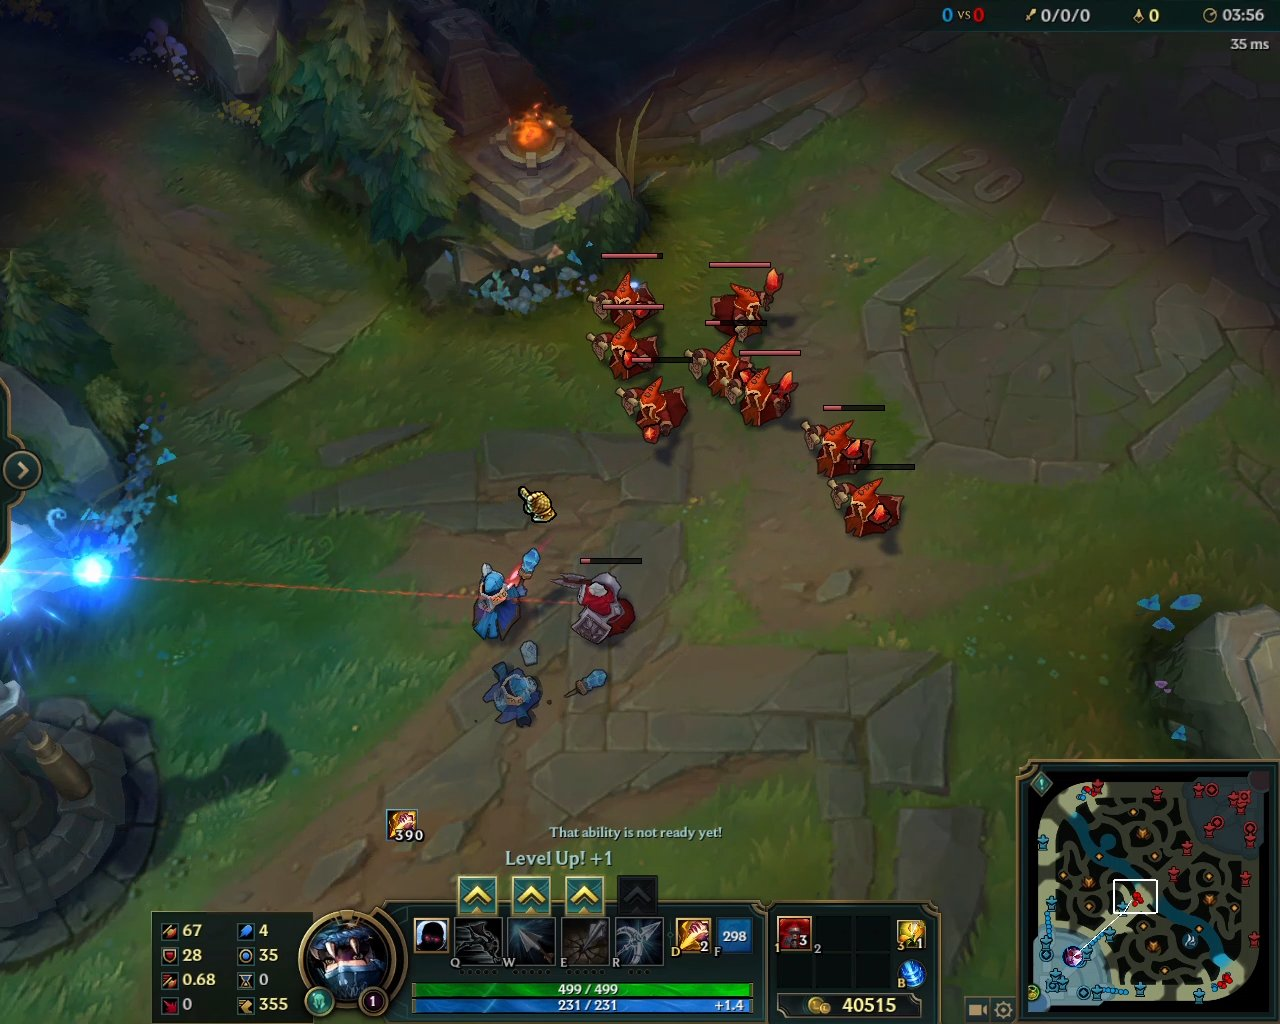EnemyMinion: (546, 557, 642, 650), (611, 357, 690, 447), (823, 464, 914, 541), (700, 261, 785, 343), (797, 404, 886, 479), (582, 304, 664, 383), (685, 320, 766, 395), (725, 350, 800, 429), (587, 253, 662, 329)
